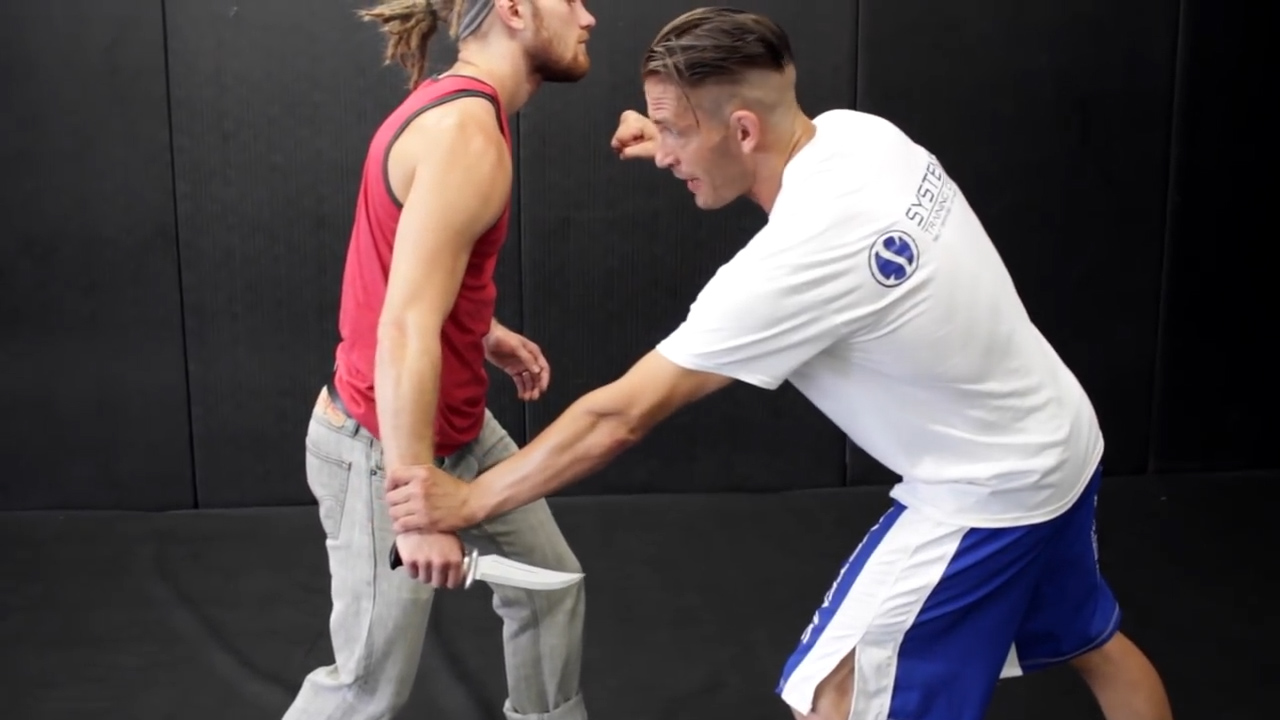knife: (378, 532, 595, 600)
